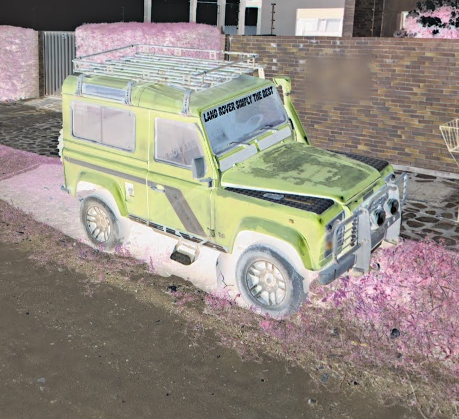car: (55, 39, 413, 322)
